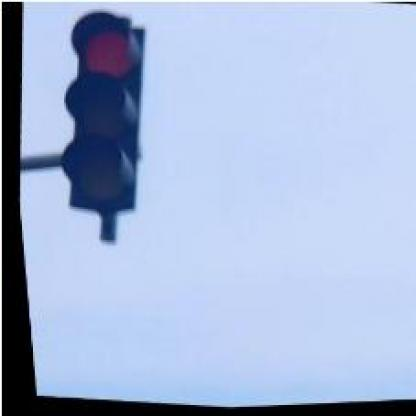red: (45, 5, 157, 215)
